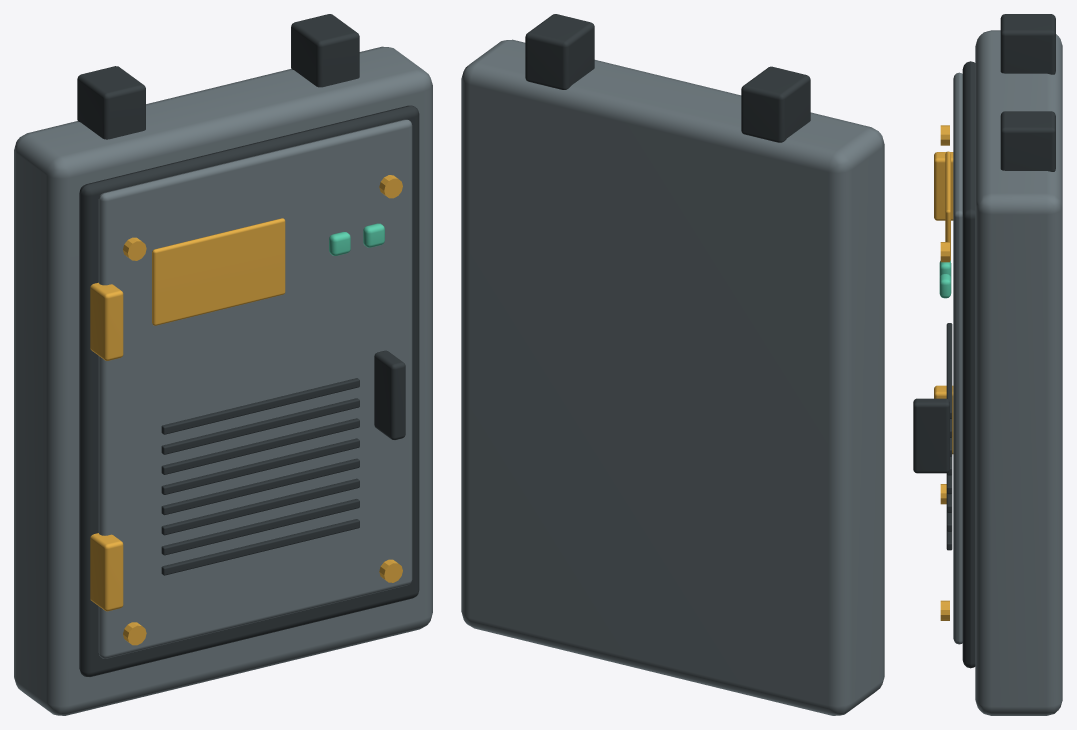
File: IndustrialServicePanel.fbx
3 views of the same model, side by side, from view 1: azimuth 30°, elevation 25°; view 2: azimuth 150°, elevation 25°; view 3: azimuth 270°, elevation 25° (orthographic). The views are drawn at different scales.
Visible parts, largest first — view 1: Door_Plate, Enclosure, Recessed_Door, Caution_Plaque, Cable_Port, Cable_Port.001, Handle, Hinge, Hinge.001, Vent_Slat, Vent_Slat.002, Vent_Slat.003 (+5 smaller); view 2: Enclosure, Cable_Port, Cable_Port.001; view 3: Enclosure, Recessed_Door, Door_Plate, Cable_Port, Cable_Port.001, Handle, Hinge.001, Vent_Slat.007, Caution_Plaque, Hinge, Status_Indicator.001.
Boxes of the visible parts, left/top/right/bottom form: Door_Plate: left=98, top=119, right=412, bottom=658; Enclosure: left=14, top=46, right=432, bottom=715; Recessed_Door: left=79, top=105, right=419, bottom=676; Caution_Plaque: left=152, top=218, right=285, bottom=325; Cable_Port: left=77, top=66, right=145, bottom=139; Cable_Port.001: left=291, top=14, right=359, bottom=87; Handle: left=374, top=350, right=405, bottom=439; Hinge: left=90, top=533, right=123, bottom=611; Hinge.001: left=90, top=282, right=123, bottom=360; Vent_Slat: left=161, top=519, right=359, bottom=575; Vent_Slat.002: left=161, top=478, right=359, bottom=535; Vent_Slat.003: left=161, top=458, right=359, bottom=515; Enclosure: left=461, top=39, right=884, bottom=715; Cable_Port: left=741, top=66, right=810, bottom=142; Cable_Port.001: left=525, top=14, right=594, bottom=89; Enclosure: left=975, top=30, right=1062, bottom=715; Recessed_Door: left=962, top=61, right=975, bottom=668; Door_Plate: left=953, top=72, right=962, bottom=644; Cable_Port: left=1000, top=14, right=1055, bottom=74; Cable_Port.001: left=1000, top=111, right=1055, bottom=171; Handle: left=913, top=398, right=949, bottom=473; Hinge.001: left=934, top=152, right=953, bottom=220; Vent_Slat.007: left=946, top=323, right=952, bottom=418; Caution_Plaque: left=945, top=151, right=950, bottom=261; Hinge: left=934, top=385, right=953, bottom=454; Status_Indicator.001: left=939, top=274, right=951, bottom=298.
Bounding box in the file's own units: 90 × 135 × 32.5.
